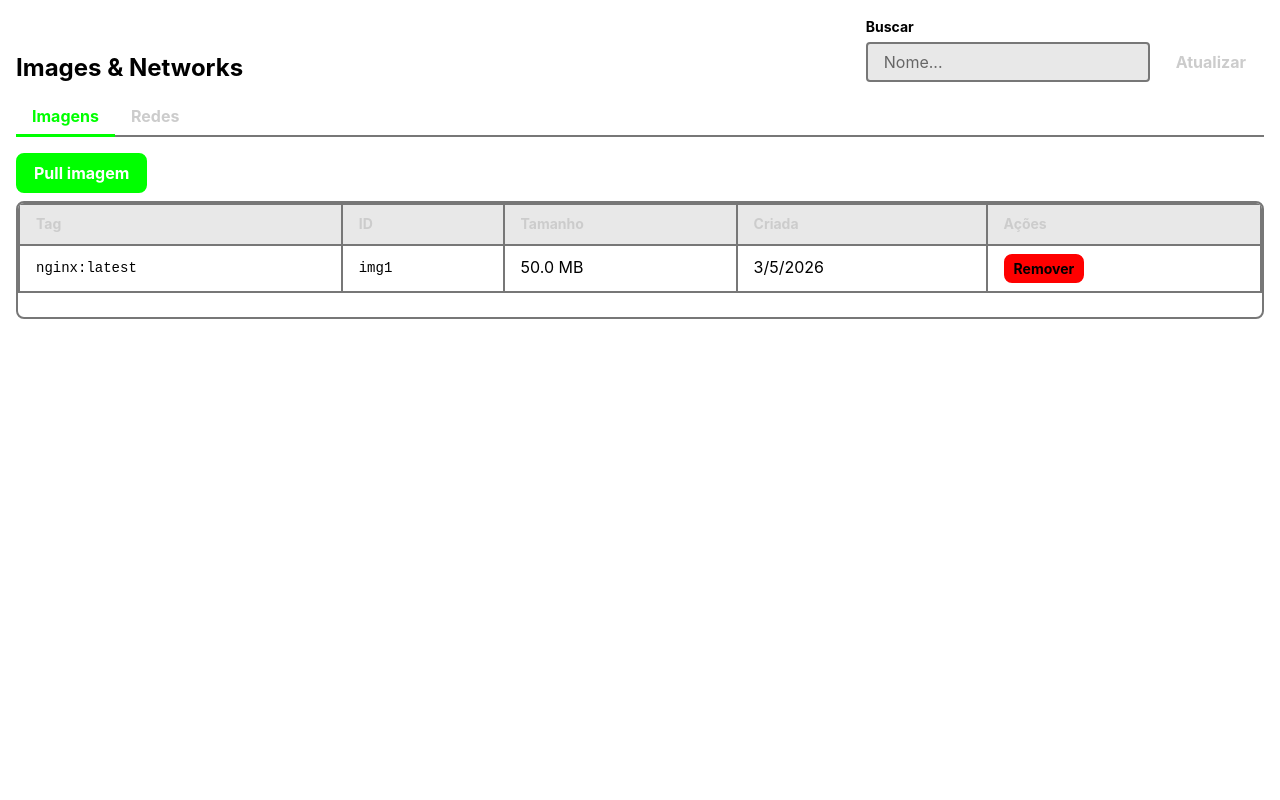
it: ImagesNetworks › remove network button opens confirm modal
The width and height of the screenshot is (1280, 800).
Click the tab "Redes": (155, 118) [115,98,195,137]
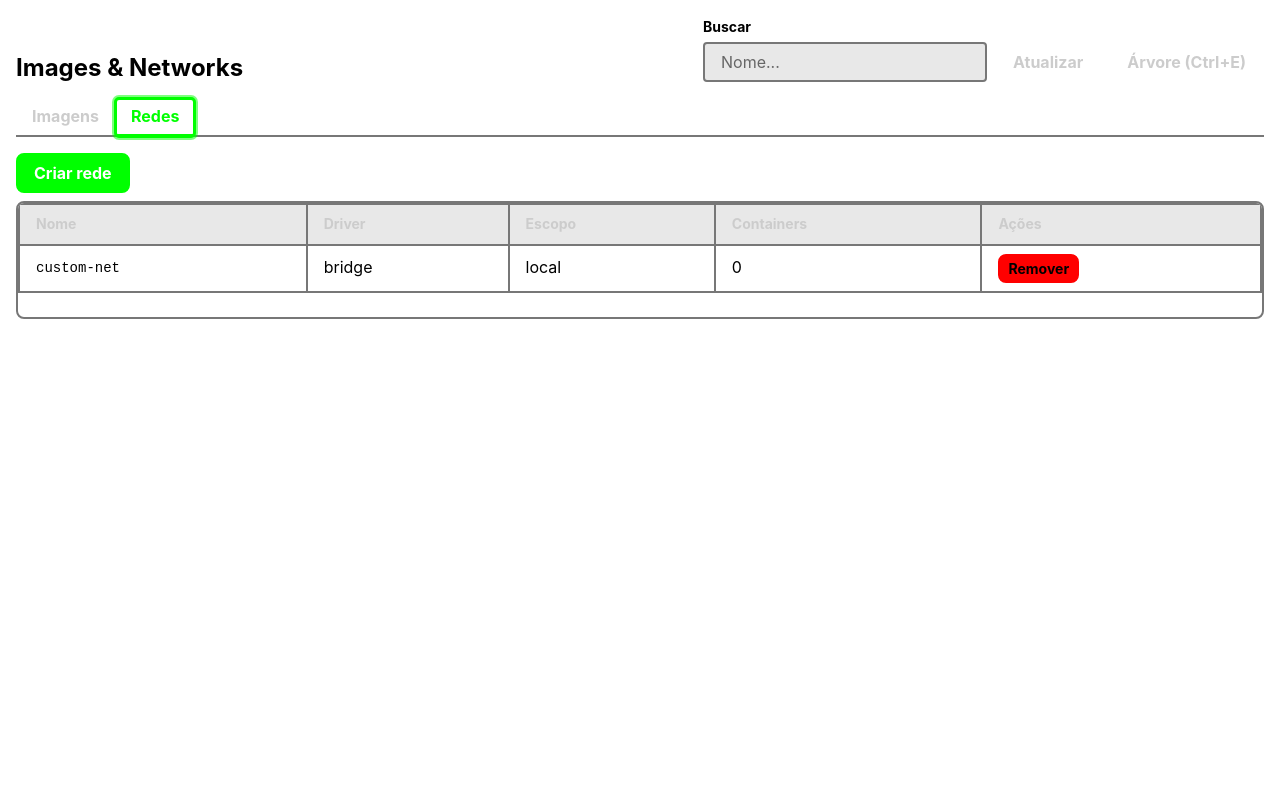
Now the text "custom-net" is shown, box [19,245,307,292]
Click the button with test id "remove-net-net1": (1039, 268) [998,254,1079,283]
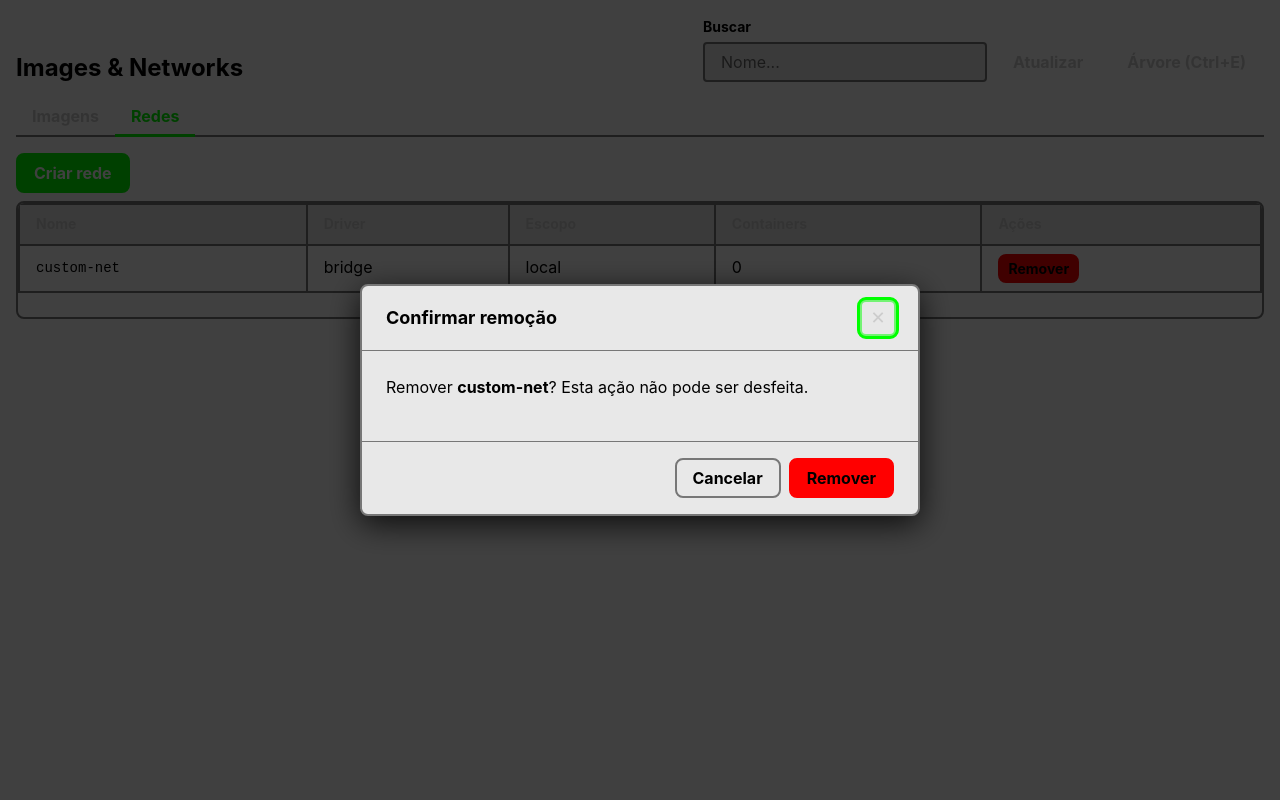
Now the dialog "Confirmar remoção" is shown, box [360,284,920,516]
